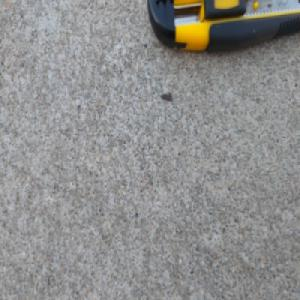Cutter: (142, 0, 300, 62)
